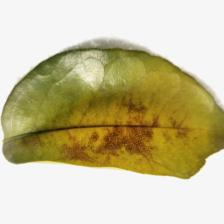black spot: (32, 88, 176, 170)
